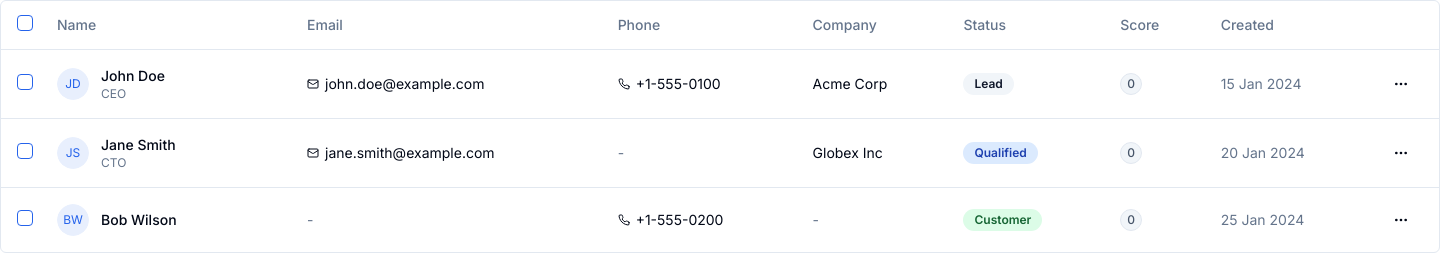
it: ContactTable › Actions Menu › should open dropdown menu on click
The width and height of the screenshot is (1440, 270).
Click the button without text in the row of "JD".
click(1401, 84)  # box 1385,68 -> 1417,100
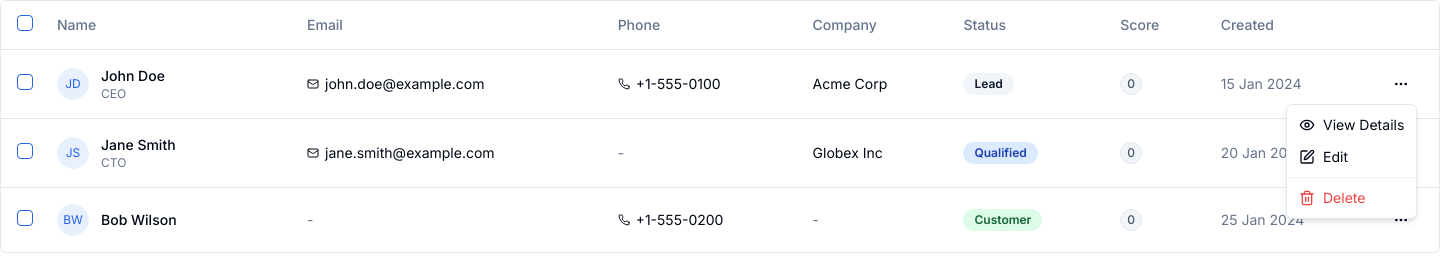
Result: the menu item "View Details" is shown at 1299,116 -> 1404,133
Result: the menu item "Edit" is shown at 1299,148 -> 1348,165
Result: the menu item "Delete" is shown at 1299,189 -> 1365,206
